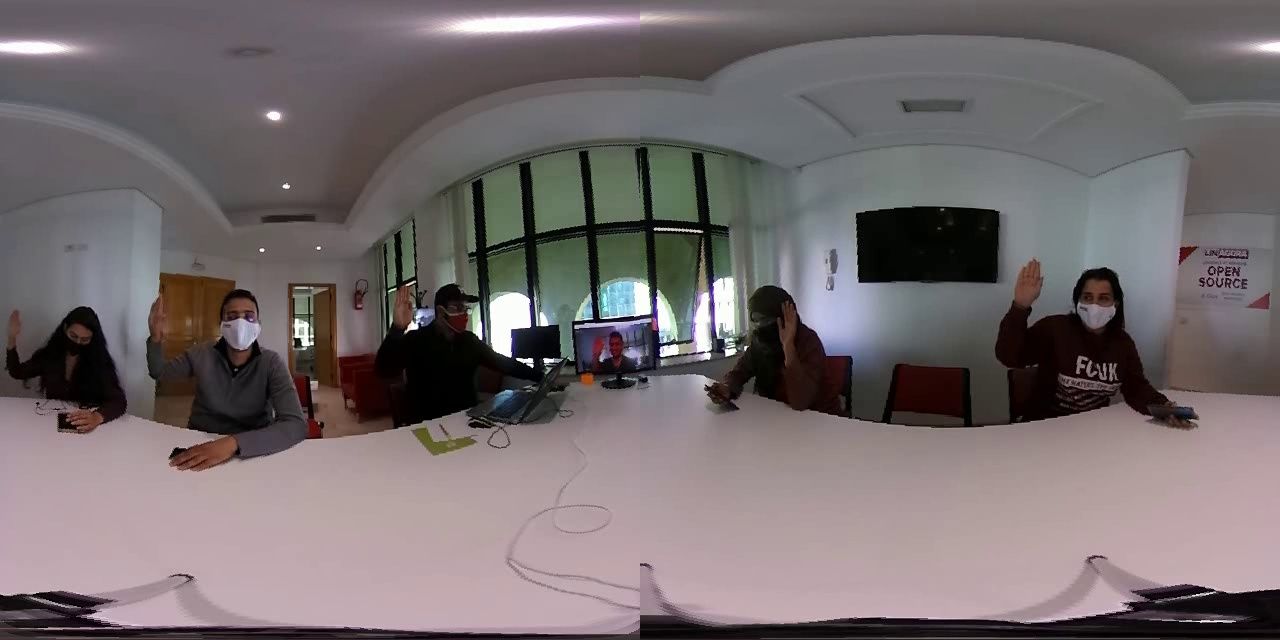person: (141, 287, 321, 465), (981, 246, 1162, 412), (2, 292, 137, 438), (703, 275, 831, 417), (371, 270, 502, 405), (573, 319, 659, 380)
voting: (771, 297, 817, 407), (1008, 252, 1053, 359), (383, 280, 419, 372), (143, 288, 173, 392), (2, 303, 29, 387), (586, 330, 609, 377)
